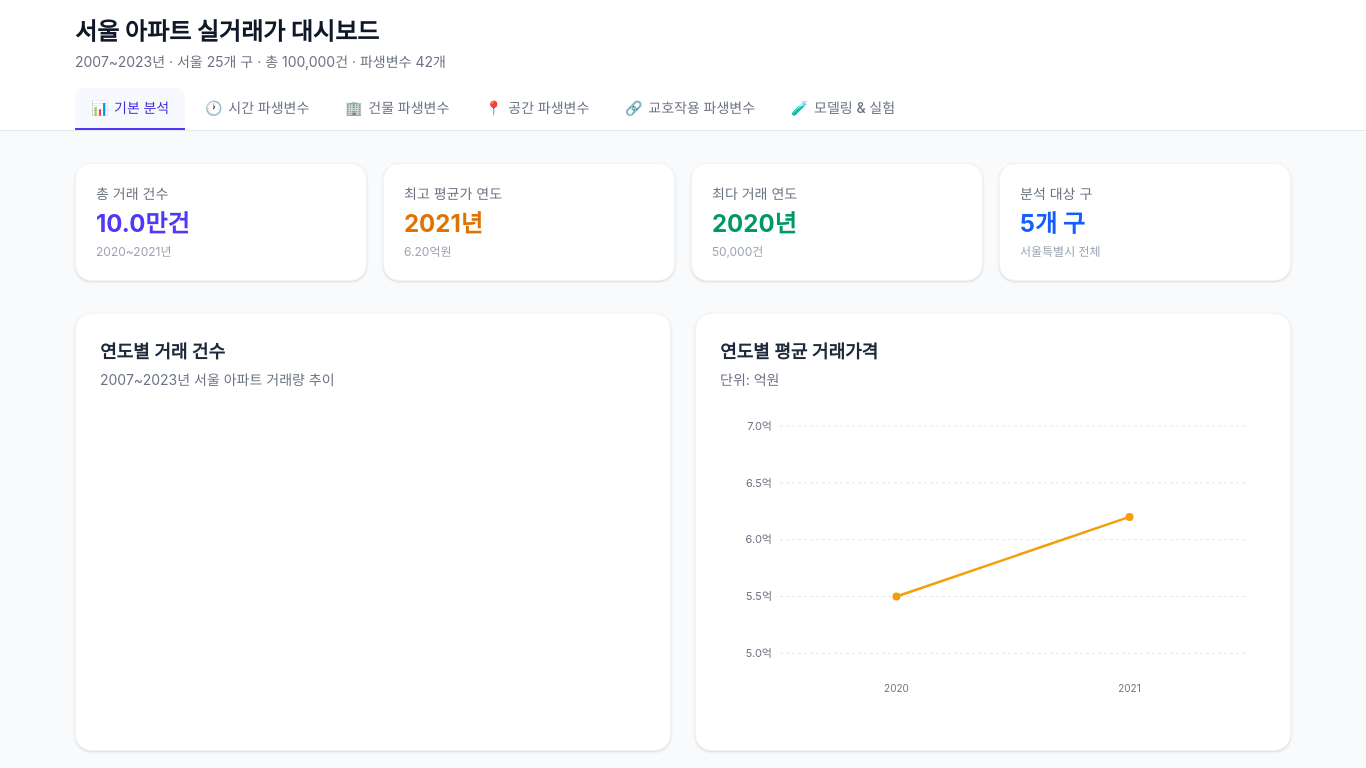
탭 네비게이션 (zustand) › 시간 파생변수 버튼 클릭 시 시간 페이지가 표시된다
Click the button "🕐 시간 파생변수" at (257, 109), box top-left (189, 88), bottom-right (325, 130)
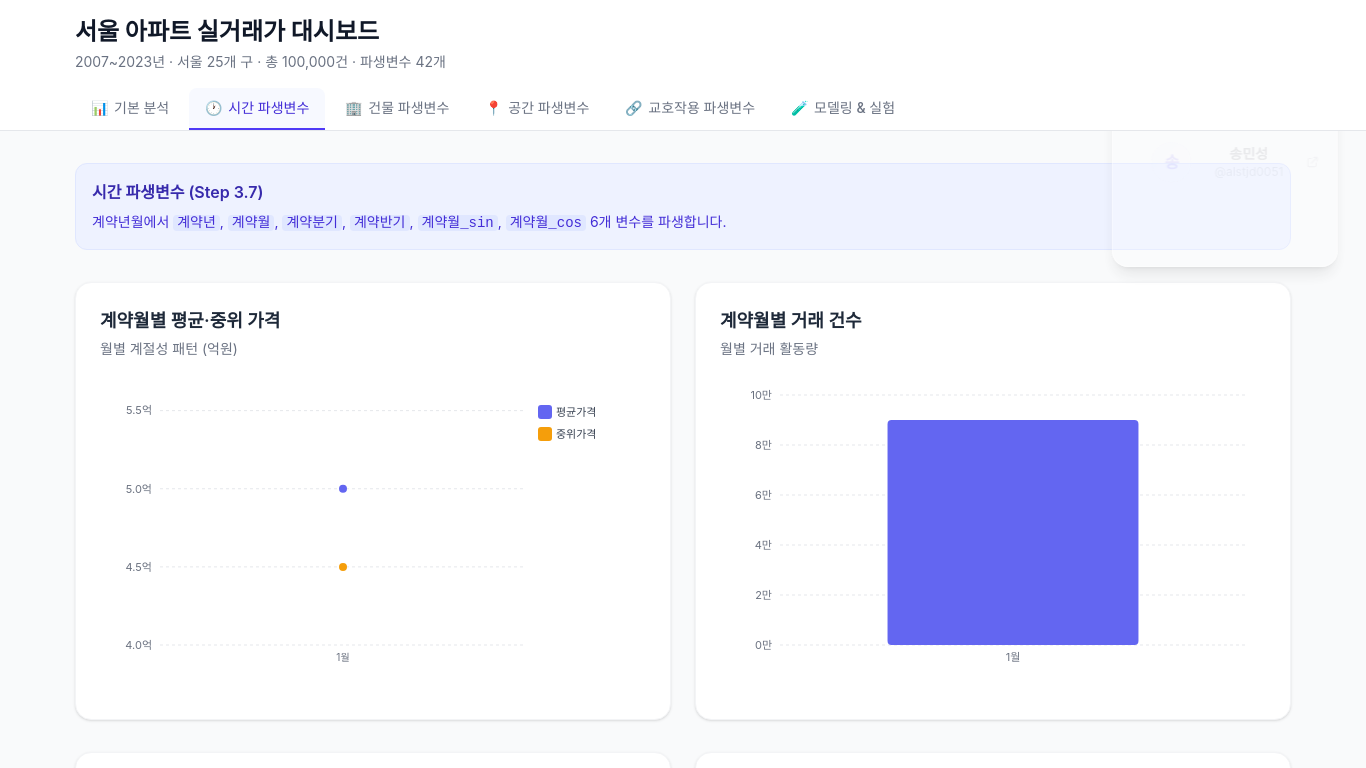
Expected: the heading "시간 파생변수 (Step 3.7)" is shown, top-left (92, 182), bottom-right (264, 202)
